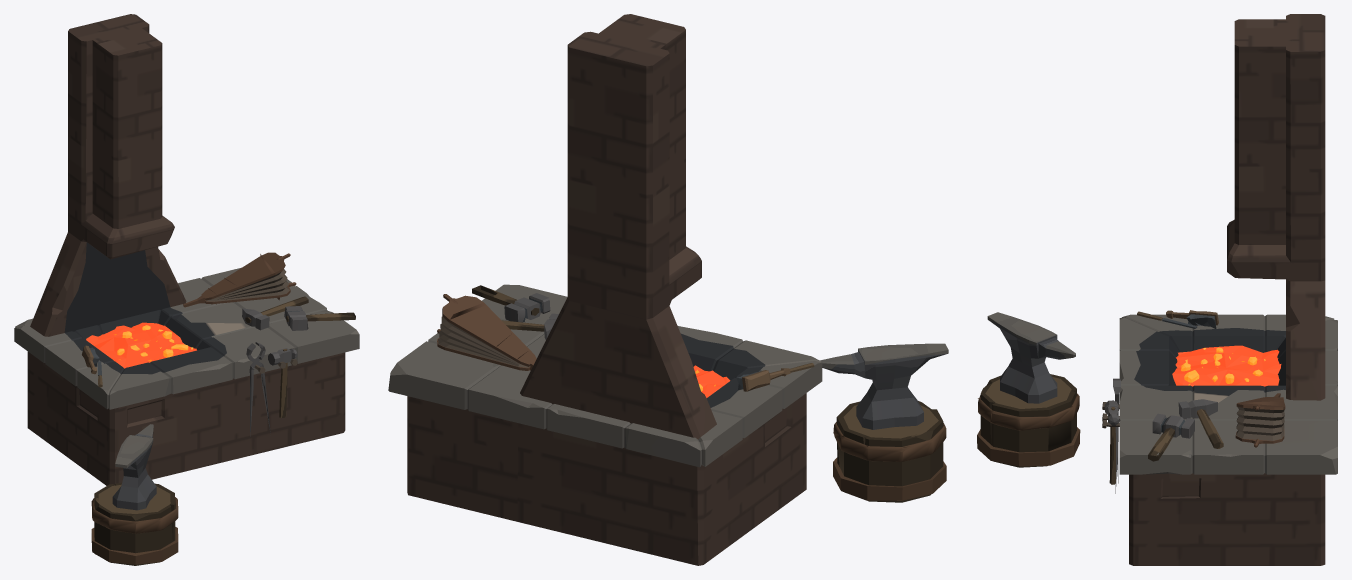
Rendered from workbench_blacksmith.fbx.
3 views of the same model, side by side, from view 1: azimuth 30°, elevation 25°; view 2: azimuth 150°, elevation 25°; view 3: azimuth 270°, elevation 25° (orthographic). The views are drawn at different scales.
Parts seen in each view (by area): view 1: Workbench Forge 1; view 2: Workbench Forge 1; view 3: Workbench Forge 1.
Boxes of the visible parts, bbox=[...] form: Workbench Forge 1: bbox=[14, 14, 359, 565]; Workbench Forge 1: bbox=[388, 14, 948, 565]; Workbench Forge 1: bbox=[977, 14, 1337, 565].
Bounding box in the file's own units: 275 × 342 × 239.
Materials: 2 (2 with a texture image).
